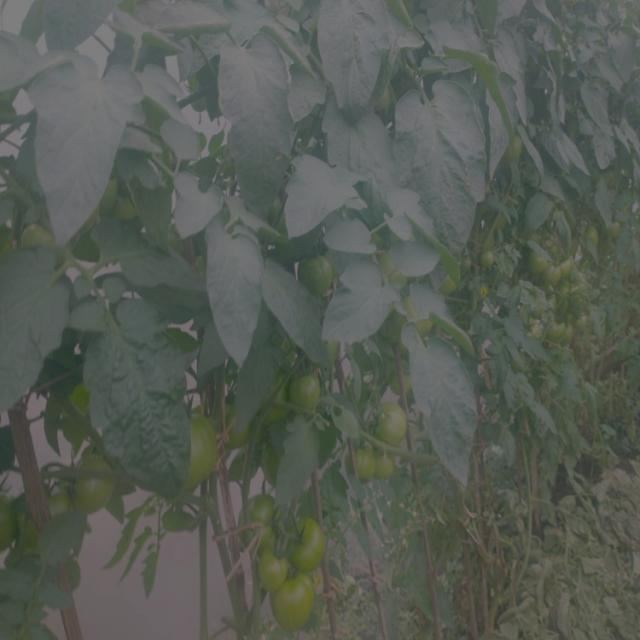tomato: (187, 405, 225, 493), (71, 450, 124, 512), (284, 512, 333, 572), (276, 576, 322, 636), (295, 244, 343, 297), (528, 236, 579, 285), (241, 495, 278, 551), (21, 214, 61, 261), (370, 403, 410, 446), (349, 443, 377, 487), (296, 371, 320, 418), (253, 554, 283, 591), (548, 308, 576, 343), (1, 485, 16, 548), (101, 173, 121, 209), (48, 478, 67, 515), (479, 245, 503, 274), (378, 452, 397, 488), (524, 316, 544, 342)
